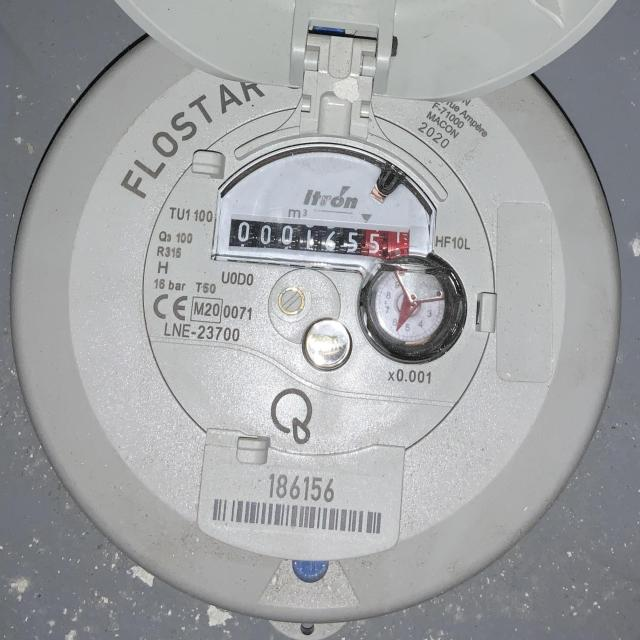gaz_meter: (142, 96, 500, 464)
indication: (229, 212, 410, 263)
